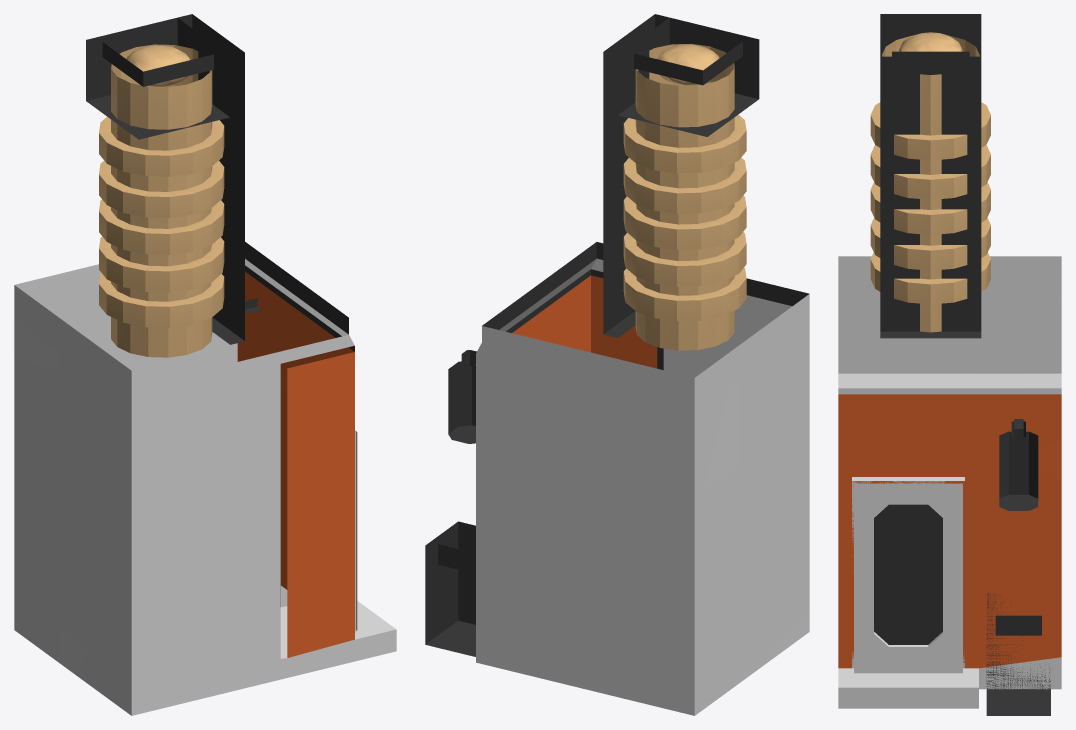
Rendered from building2.glb.
3 views of the same model, side by side, from view 1: azimuth 30°, elevation 25°; view 2: azimuth 150°, elevation 25°; view 3: azimuth 270°, elevation 25° (orthographic). The views are drawn at different scales.
Parts seen in each view (by area): view 1: Cube.003; view 2: Cube.003; view 3: Cube.003.
Part boxes in pixels (x1,y1,x2,y2): Cube.003: [14, 14, 396, 715]; Cube.003: [425, 14, 809, 715]; Cube.003: [838, 14, 1061, 715].
Size of the model in its own units: 4.03 by 8.42 by 2.92.
